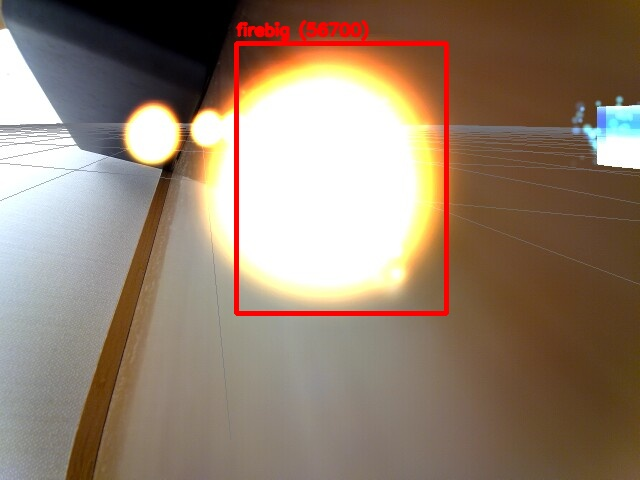firebig: (236, 43, 446, 313)
